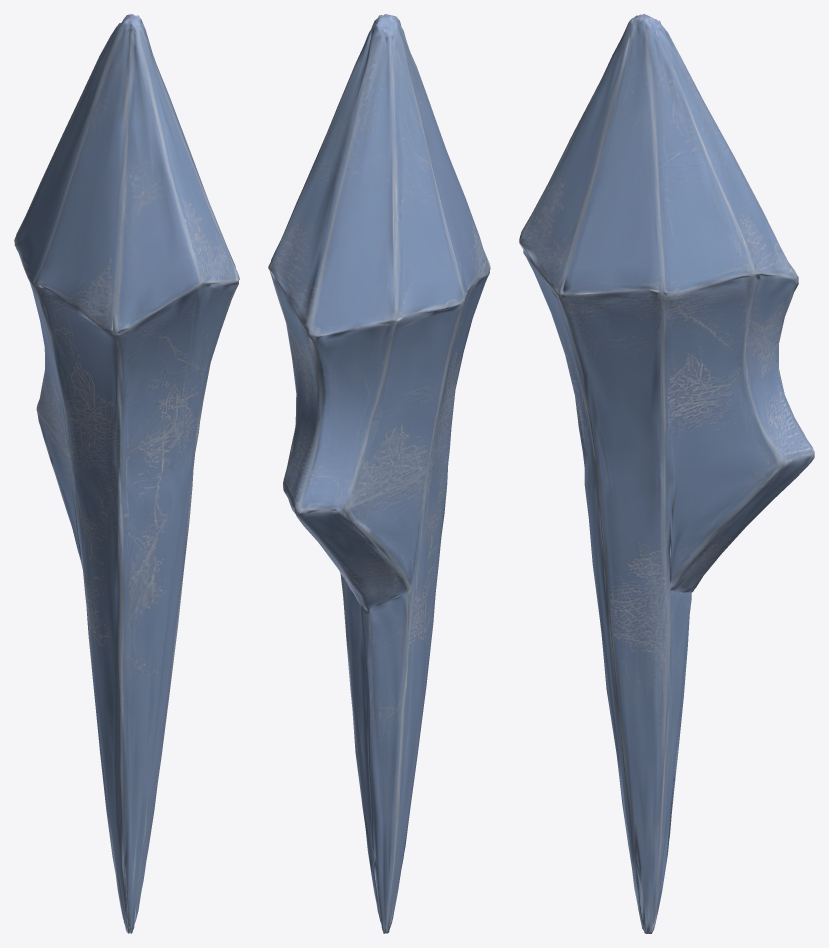
The model's file is selected.glb.
3 views of the same model, side by side, from view 1: azimuth 30°, elevation 25°; view 2: azimuth 150°, elevation 25°; view 3: azimuth 270°, elevation 25° (orthographic).
Visible parts, largest first — view 1: tripo_node_4b57a478-acdb-4d77-b66f-5d3ffd984888; view 2: tripo_node_4b57a478-acdb-4d77-b66f-5d3ffd984888; view 3: tripo_node_4b57a478-acdb-4d77-b66f-5d3ffd984888.
Part boxes in pixels (x1,y1,x2,y2): tripo_node_4b57a478-acdb-4d77-b66f-5d3ffd984888: [14, 14, 239, 933]; tripo_node_4b57a478-acdb-4d77-b66f-5d3ffd984888: [268, 14, 490, 933]; tripo_node_4b57a478-acdb-4d77-b66f-5d3ffd984888: [519, 14, 814, 933].
Bounding box in the file's own units: 0.2012 × 0.998 × 0.291.
1 material, 1 textured.
